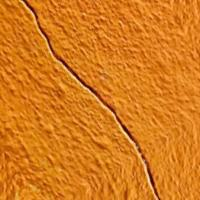crack: (16, 0, 171, 199)
